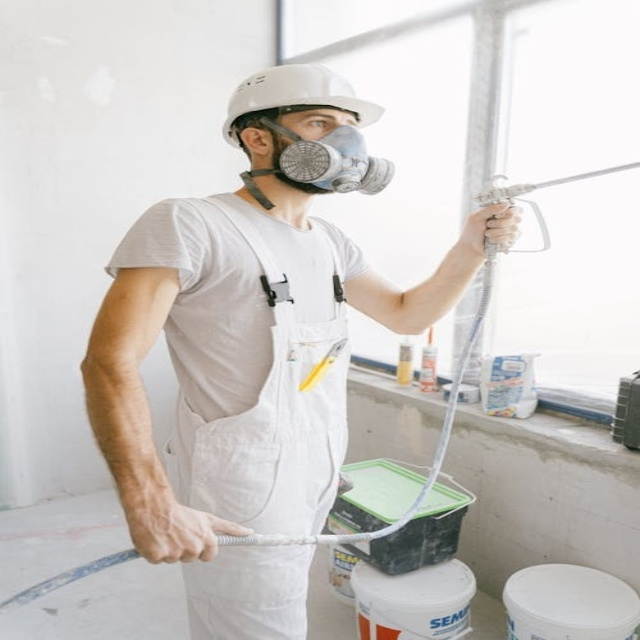Mascara: (252, 115, 395, 196)
Sin_gafas: (274, 118, 362, 131)
Sin_guantes: (134, 499, 252, 566), (458, 200, 527, 259)
